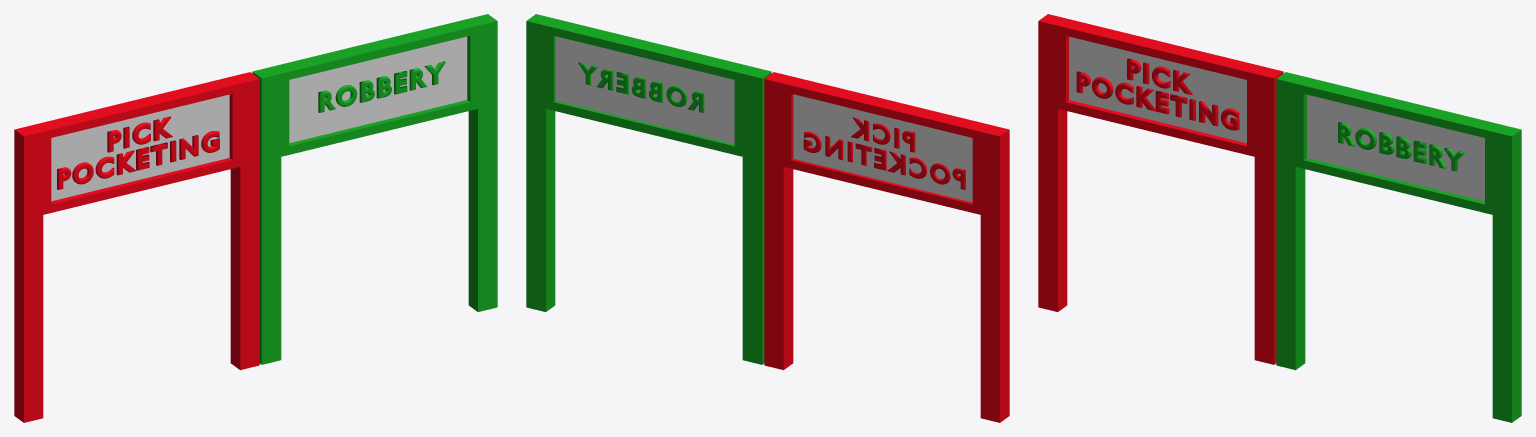
Rendered from ROBBERY_PICKPOCKET GATE 1.fbx.
3 views of the same model, side by side, from view 1: azimuth 30°, elevation 25°; view 2: azimuth 150°, elevation 25°; view 3: azimuth 330°, elevation 25° (orthographic).
Visible parts, largest first — view 1: PICKPOCKET GATE, ROBBERY GATE; view 2: PICKPOCKET GATE, ROBBERY GATE; view 3: ROBBERY GATE, PICKPOCKET GATE.
Boxes of the visible parts, x1,y1,x2,y2 form: PICKPOCKET GATE: [14, 72, 259, 422]; ROBBERY GATE: [252, 14, 497, 364]; PICKPOCKET GATE: [764, 72, 1009, 422]; ROBBERY GATE: [526, 14, 771, 364]; ROBBERY GATE: [1276, 72, 1521, 422]; PICKPOCKET GATE: [1038, 14, 1283, 364].
Size of the model in its own units: 1974 by 1141 by 68.85.
